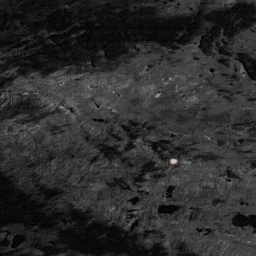Target: (170, 158, 178, 165)
